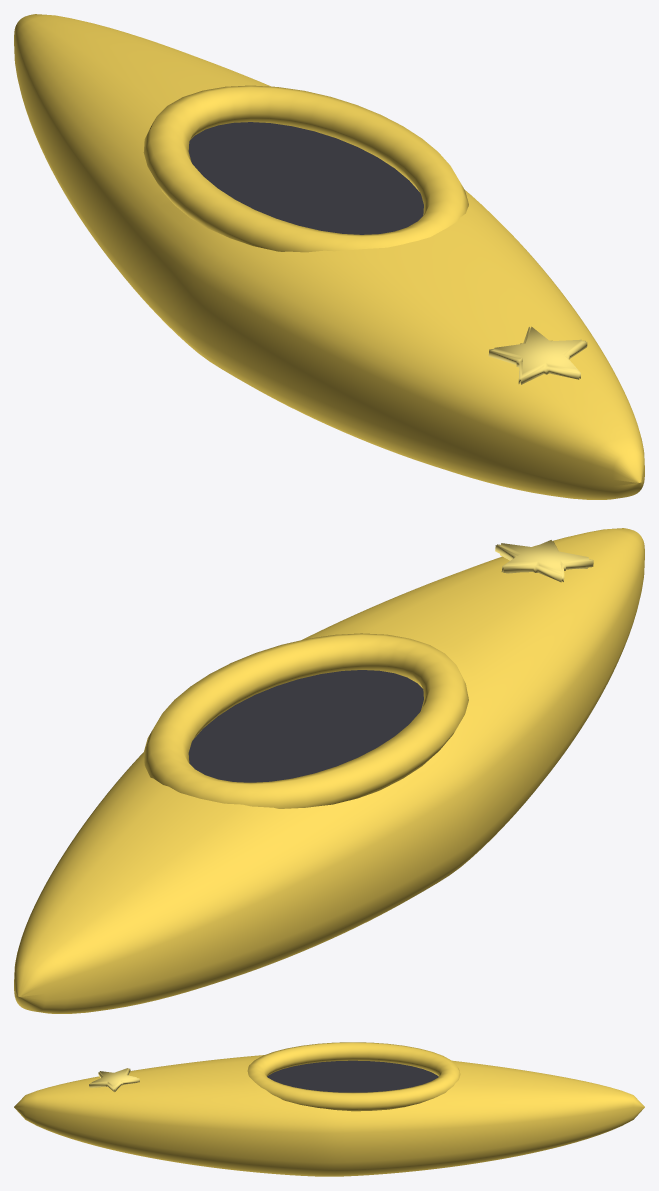
Rendered from Kayak_Gold.glb.
3 renders of one model, top to bottom at view 1: azimuth 30°, elevation 25°; view 2: azimuth 150°, elevation 25°; view 3: azimuth 270°, elevation 25°, orthographic. The views are drawn at different scales.
Parts seen in each view (by area): view 1: Kayak_Gold, Kayak_Gold_Cockpit, Kayak_Gold_Accents; view 2: Kayak_Gold, Kayak_Gold_Cockpit, Kayak_Gold_Accents; view 3: Kayak_Gold, Kayak_Gold_Cockpit, Kayak_Gold_Accents.
Boxes of the visible parts, x1,y1,x2,y2 form: Kayak_Gold: (14,14,644,499); Kayak_Gold_Cockpit: (188,122,423,234); Kayak_Gold_Accents: (488,326,587,384); Kayak_Gold: (14,528,644,1013); Kayak_Gold_Cockpit: (188,670,423,782); Kayak_Gold_Accents: (495,540,593,582); Kayak_Gold: (14,1042,644,1176); Kayak_Gold_Cockpit: (267,1060,438,1092); Kayak_Gold_Accents: (89,1068,139,1091).
Size of the model in its own units: 2.5 by 1.49 by 9.4.
